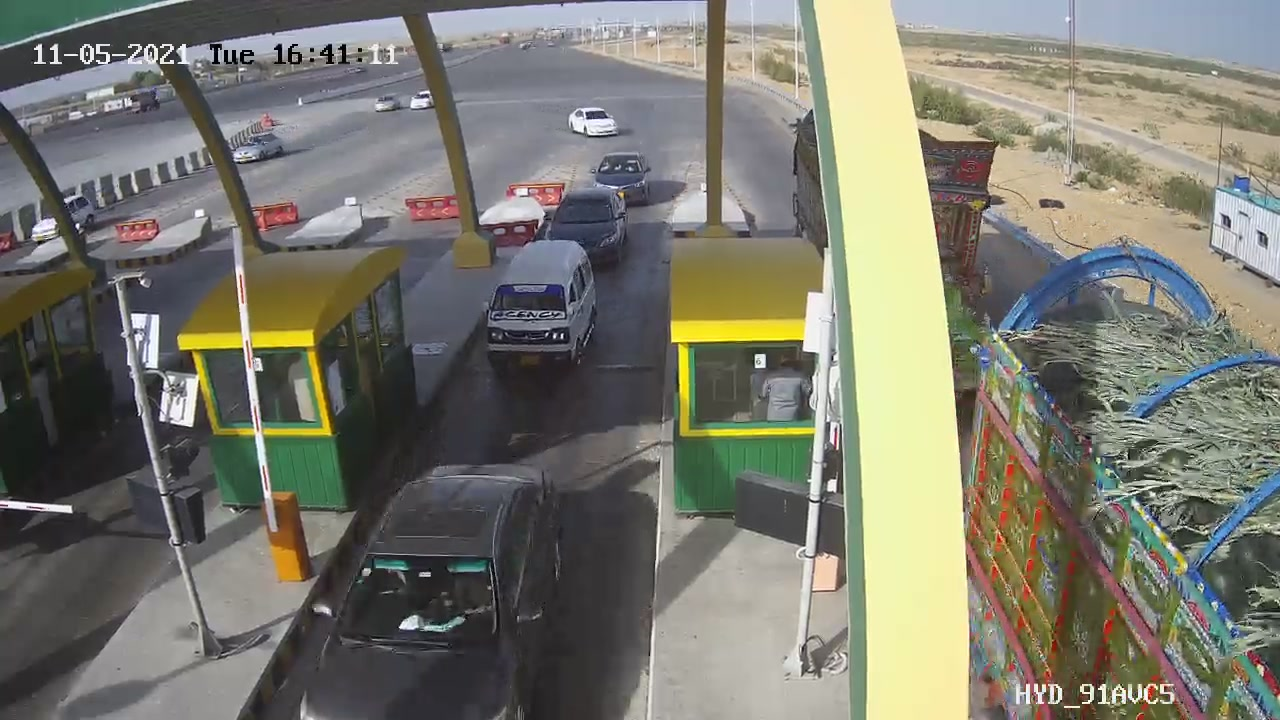F1: (466, 231, 619, 389)
